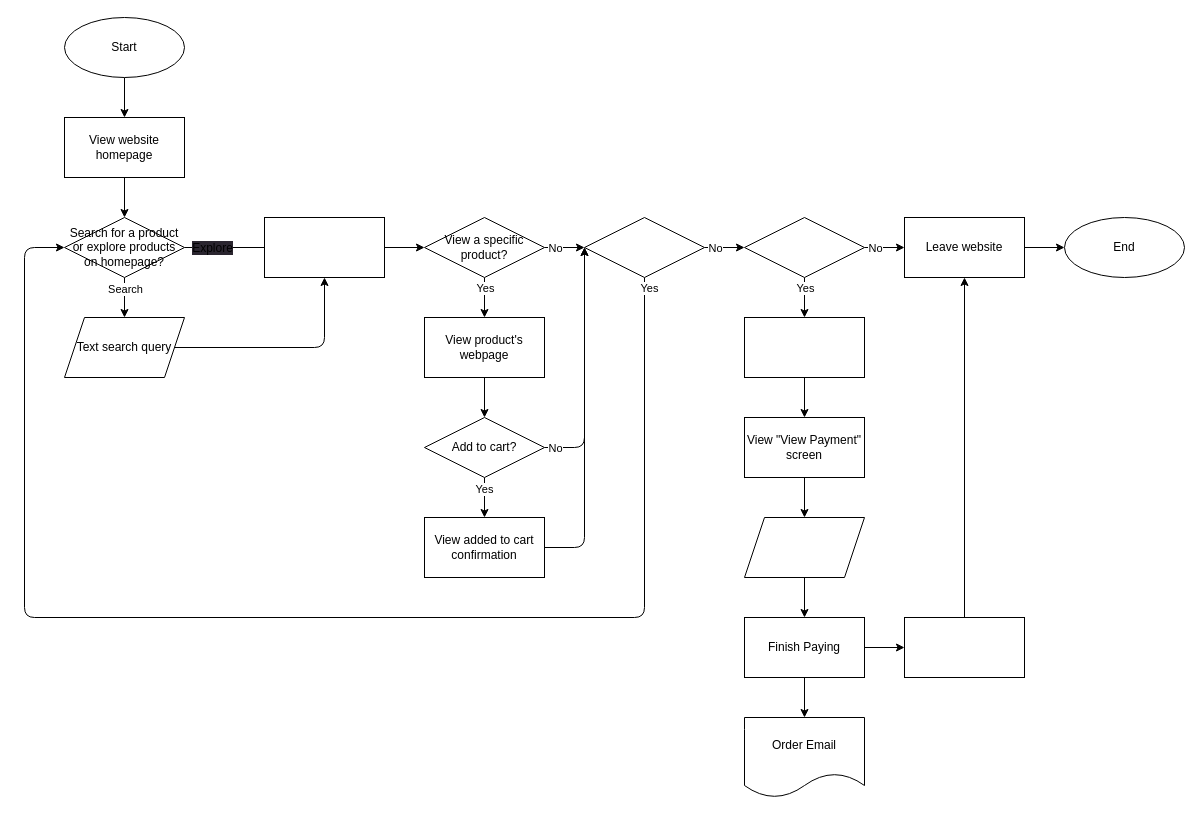
Some shapes in this 1202 by 815 pixel diagram are drawn without their labels. The shapes that lost their labels are listed below. From the top down, each one's centre as x and y in pixels, then its label:
point (324, 247): Look over products
point (644, 247): Continue shopping?
point (804, 247): Checkout?
point (804, 347): View "View Cart" screen
point (804, 547): Payment information
point (964, 647): View order confirmation screen
